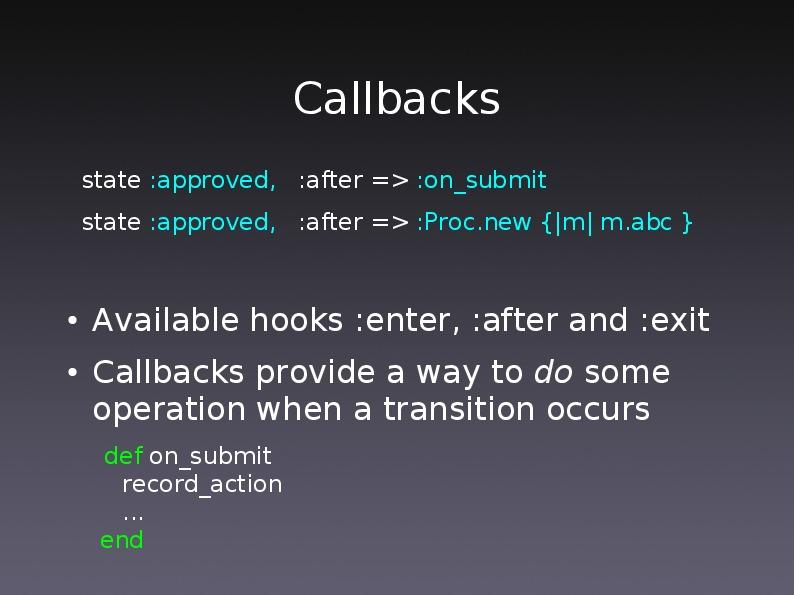paragraph: (56, 160, 726, 562)
title: (290, 74, 506, 126)
